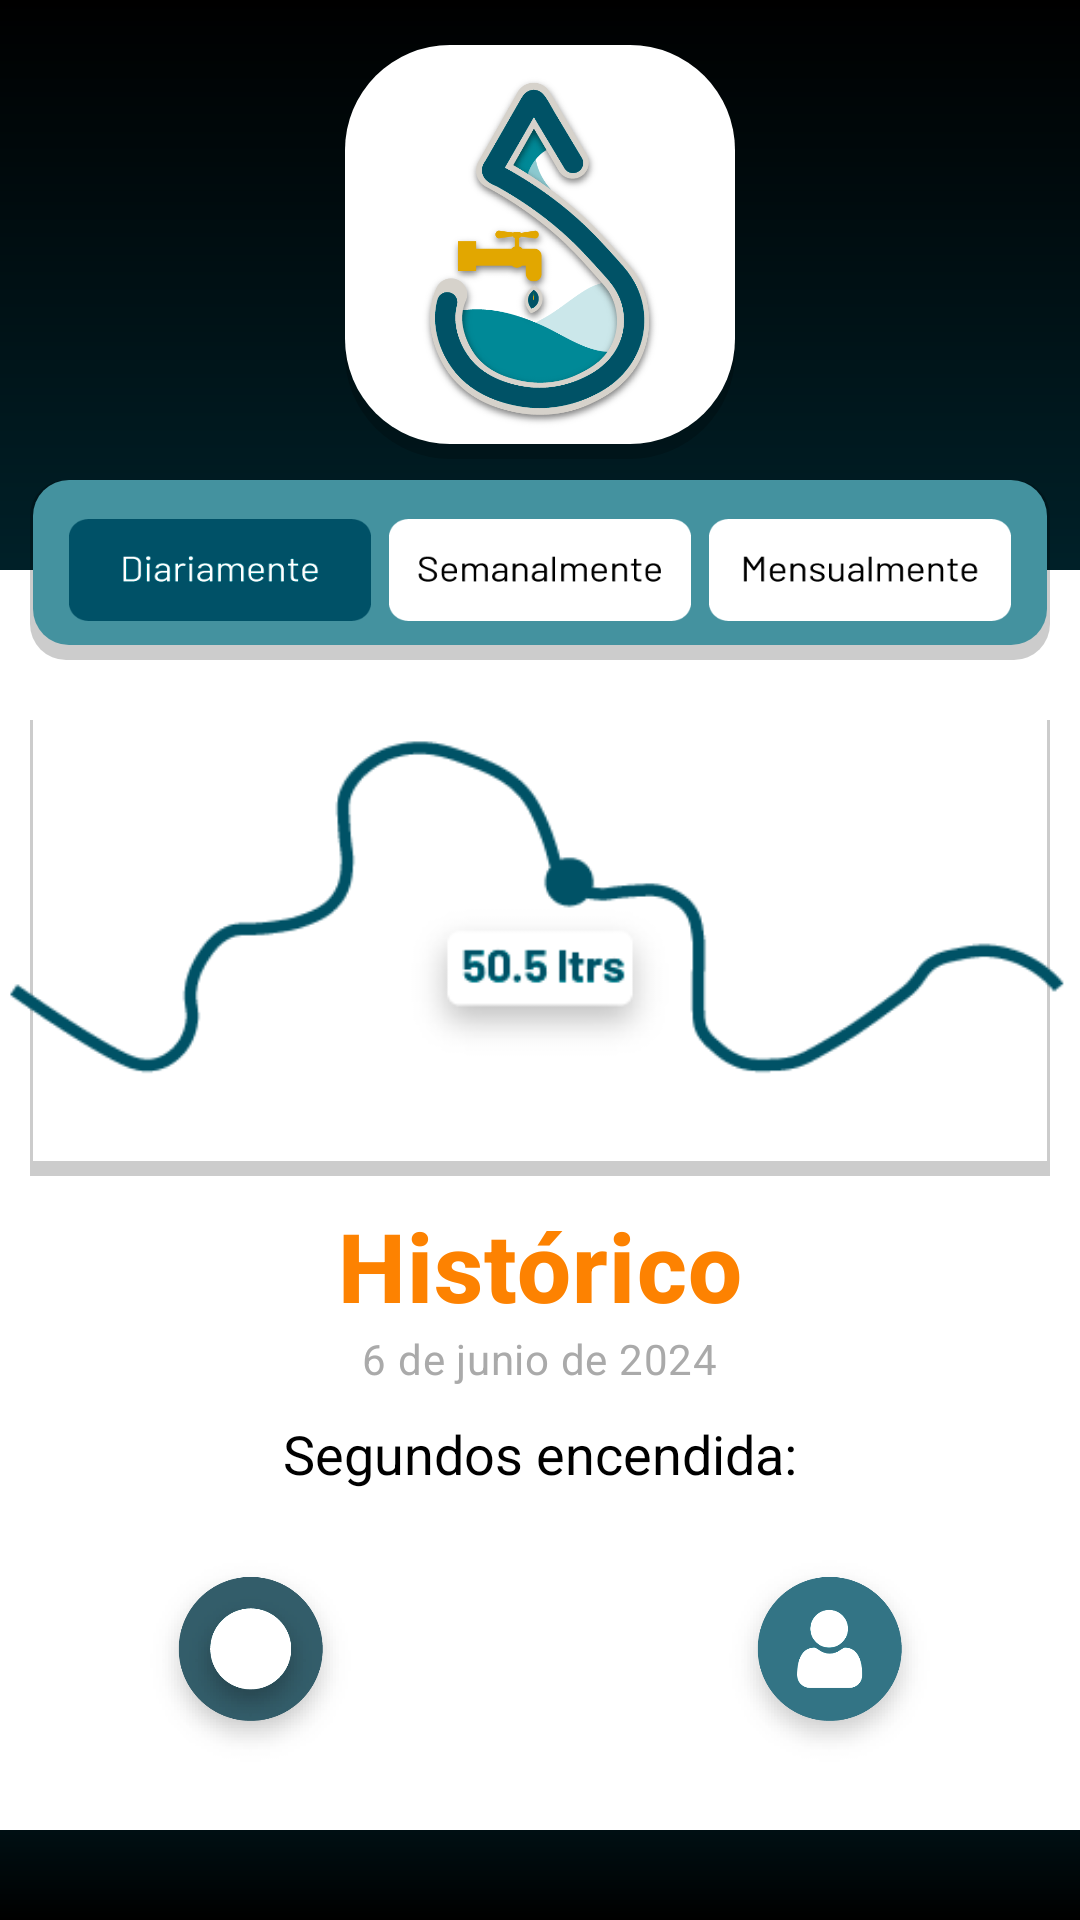

Named icons in this screenshot (1080w x 1920h) and their bounding boxes, (x1, y1, x2, y2):
usuario off: (757, 1577, 902, 1732)
